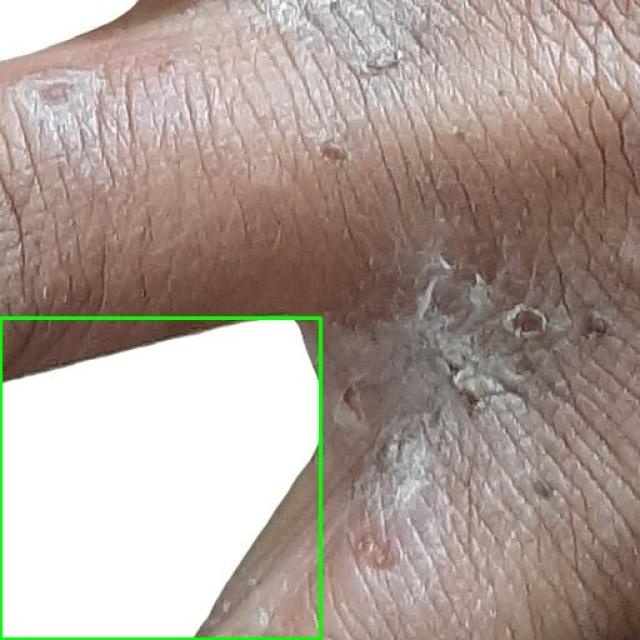Scabies: (0, 318, 320, 639)
